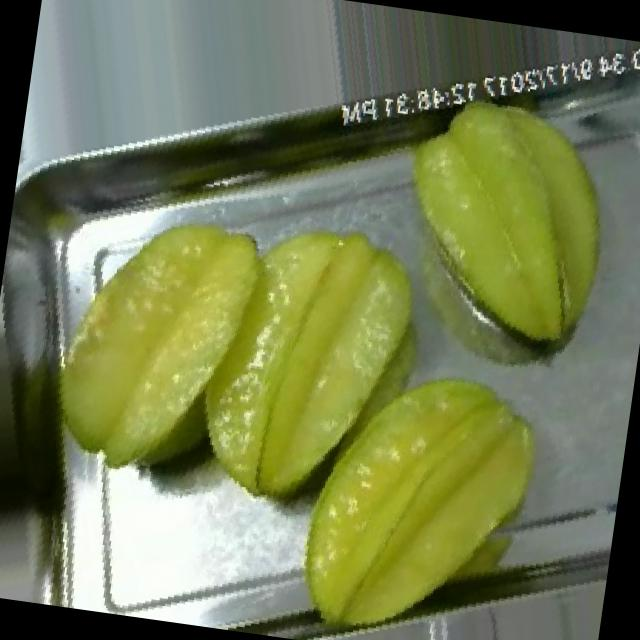fruit: (0, 162, 398, 527), (258, 315, 580, 640), (358, 51, 640, 401)
